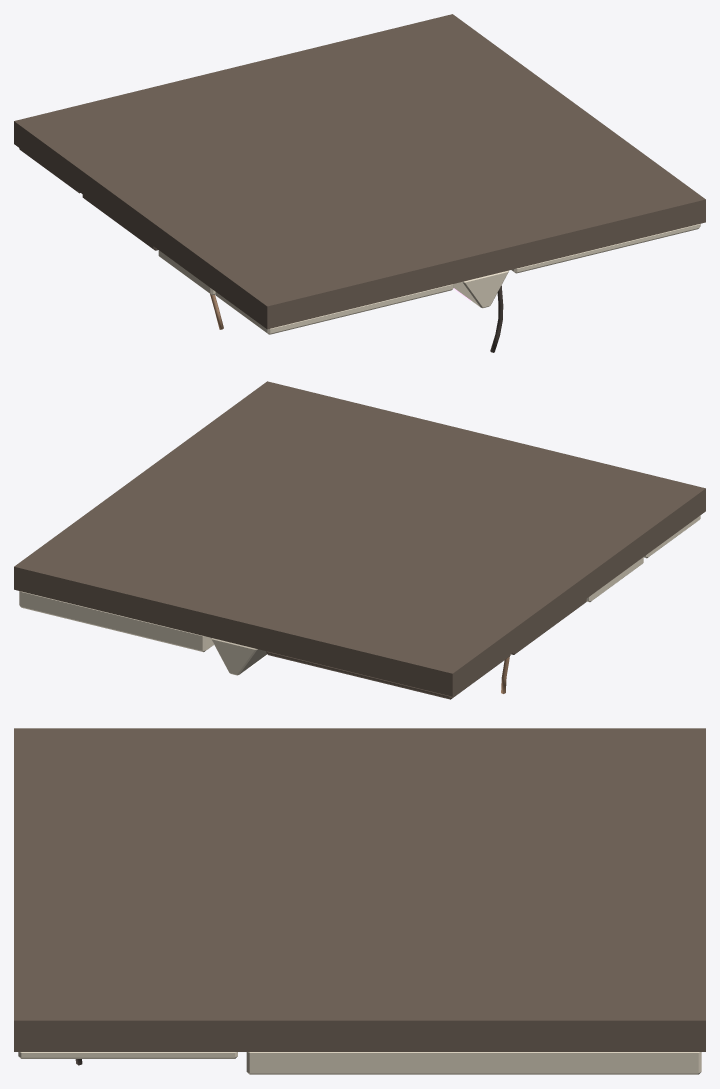
File: ceil_du_rib.glb
3 views of the same model, one above another, from view 1: azimuth 30°, elevation 25°; view 2: azimuth 150°, elevation 25°; view 3: azimuth 270°, elevation 25° (orthographic). The views are drawn at different scales.
Visible parts, largest first — view 1: ceil_du_rib; view 2: ceil_du_rib; view 3: ceil_du_rib.
Boxes of the visible parts, x1,y1,x2,y2 form: ceil_du_rib: [14, 14, 705, 352]; ceil_du_rib: [14, 381, 705, 699]; ceil_du_rib: [14, 728, 705, 1074].
Bounding box in the file's own units: 4 × 1.16 × 4.
